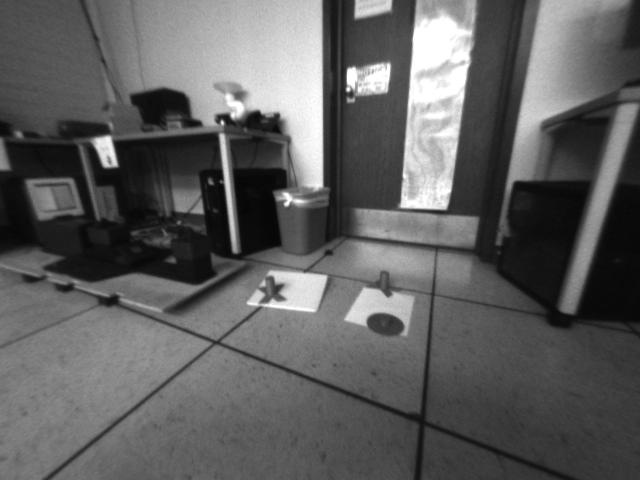X: (365, 269, 401, 294), (257, 274, 285, 304)
